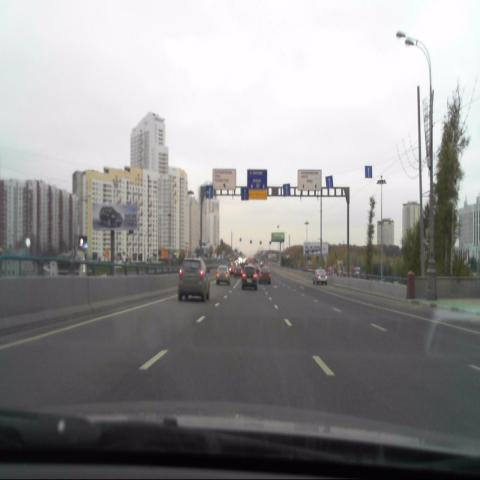5_15_2: (325, 174, 333, 188), (364, 165, 372, 179), (283, 182, 290, 196), (206, 185, 212, 199), (241, 187, 248, 199)
